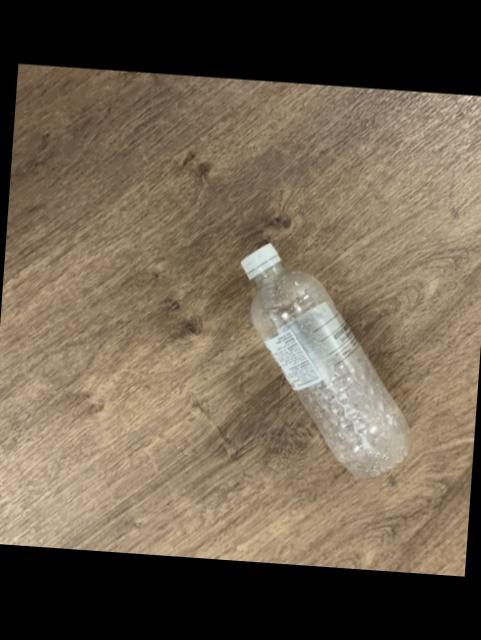plastic: (241, 245, 410, 479)
